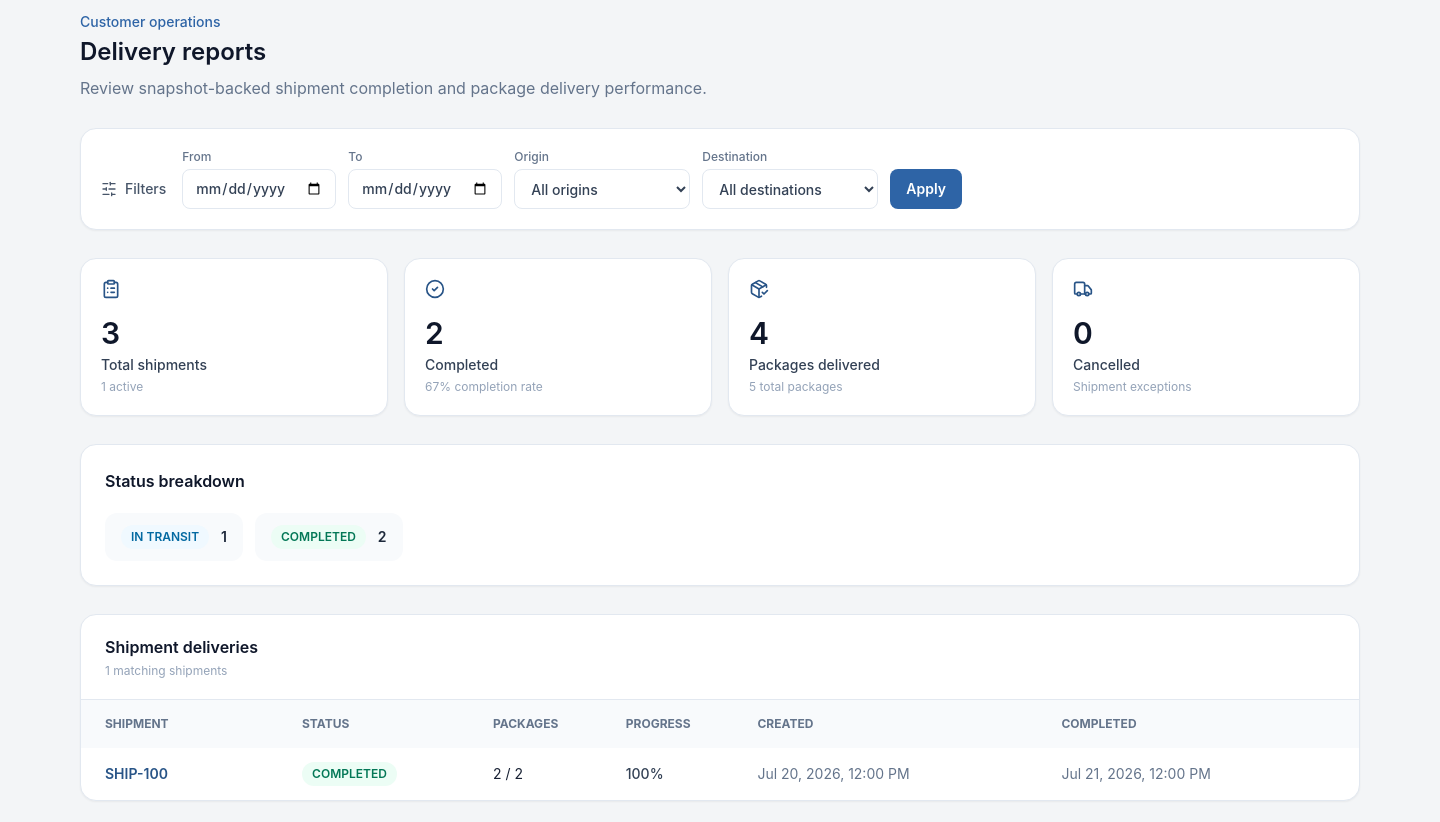
Test case: ReportsPage integration › clears active report filters
The width and height of the screenshot is (1440, 822).
Expected: the heading "Shipment deliveries" is shown, [105, 637, 258, 657]
Type "2026-07-01" into the date field named "Report from date" at (259, 189), box [182, 169, 336, 209]
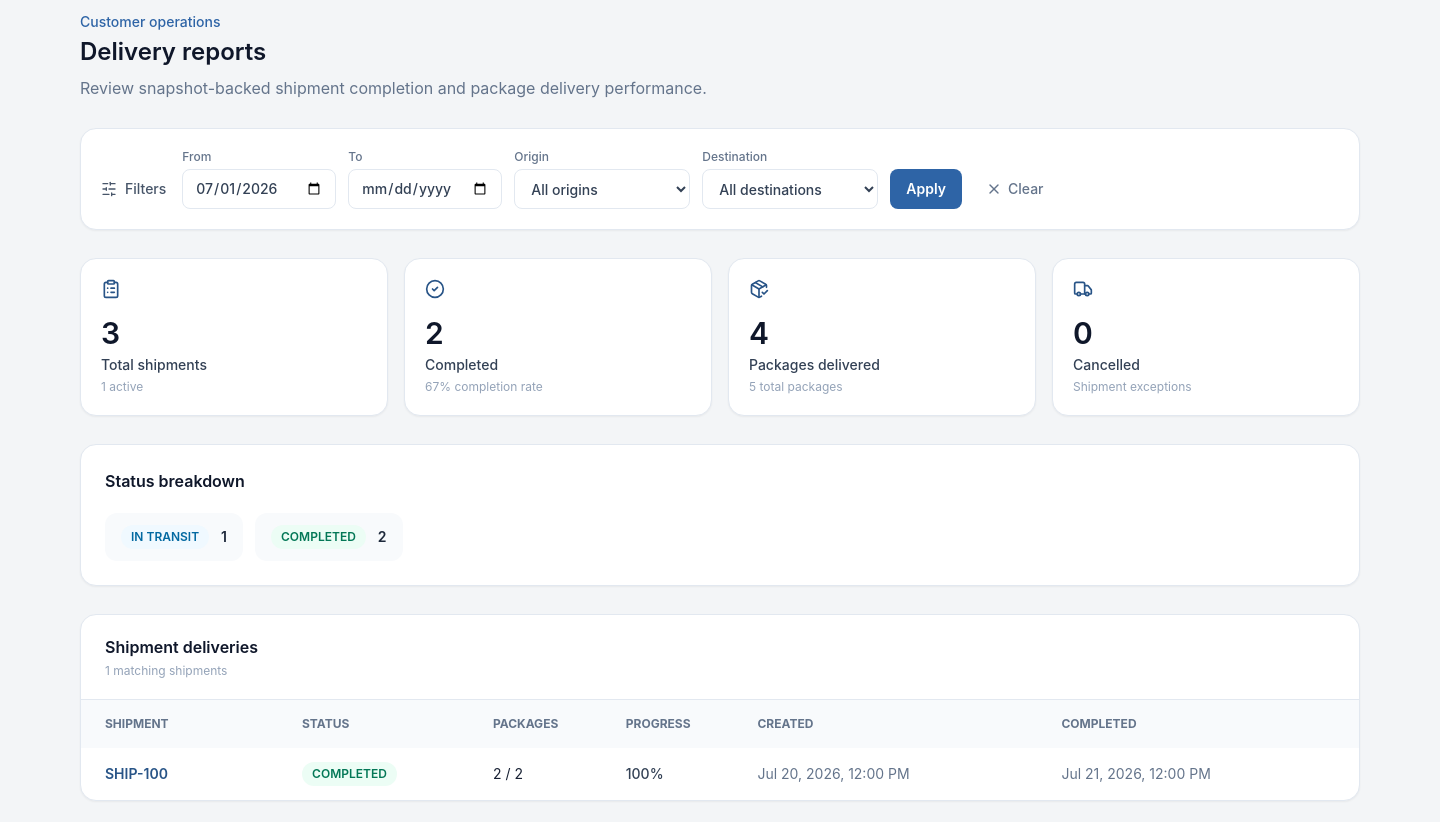
Click the button "Apply" at (926, 189), box [890, 169, 962, 209]
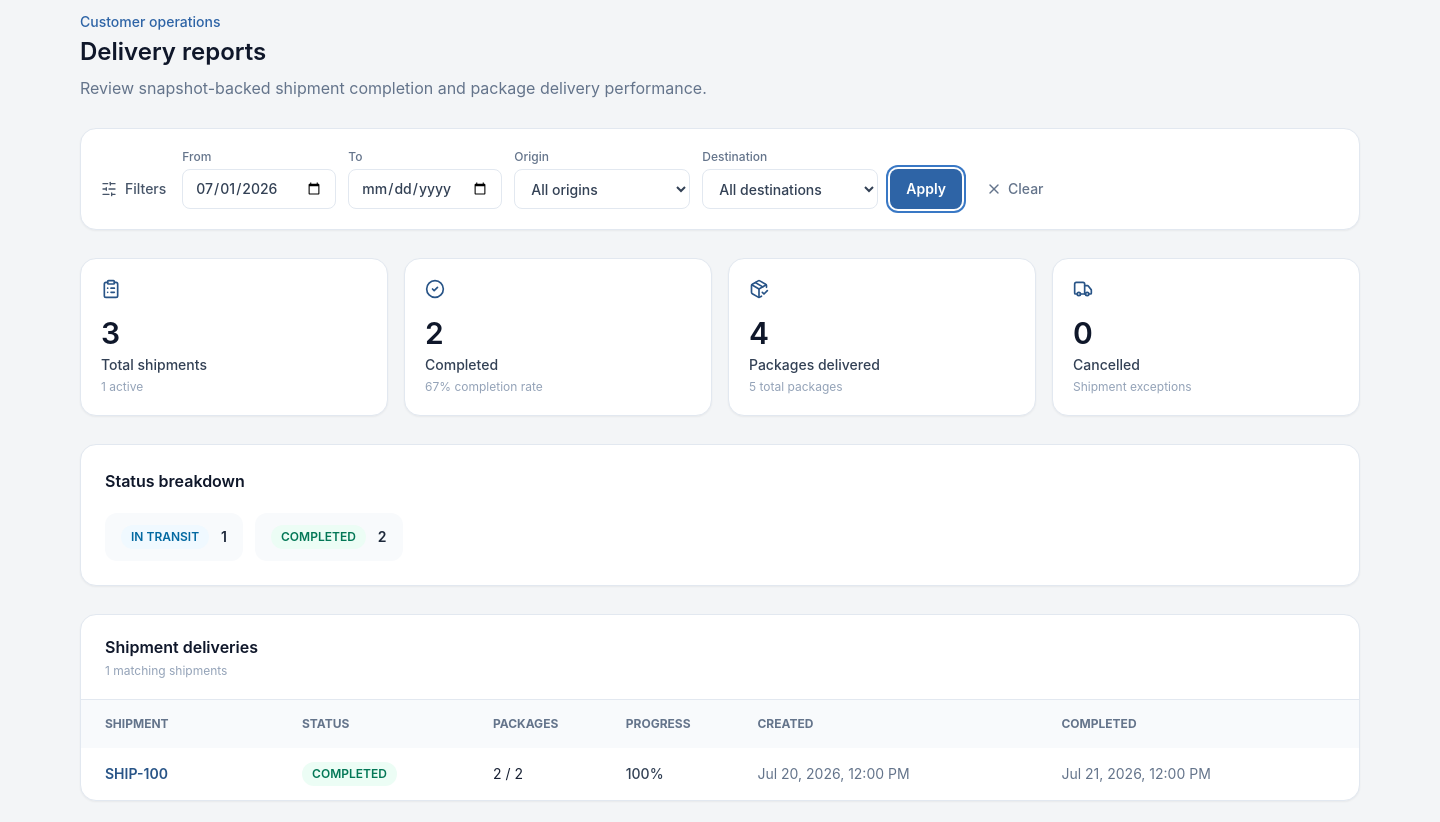
Click the button "Clear" at (1015, 189), box [974, 169, 1056, 209]
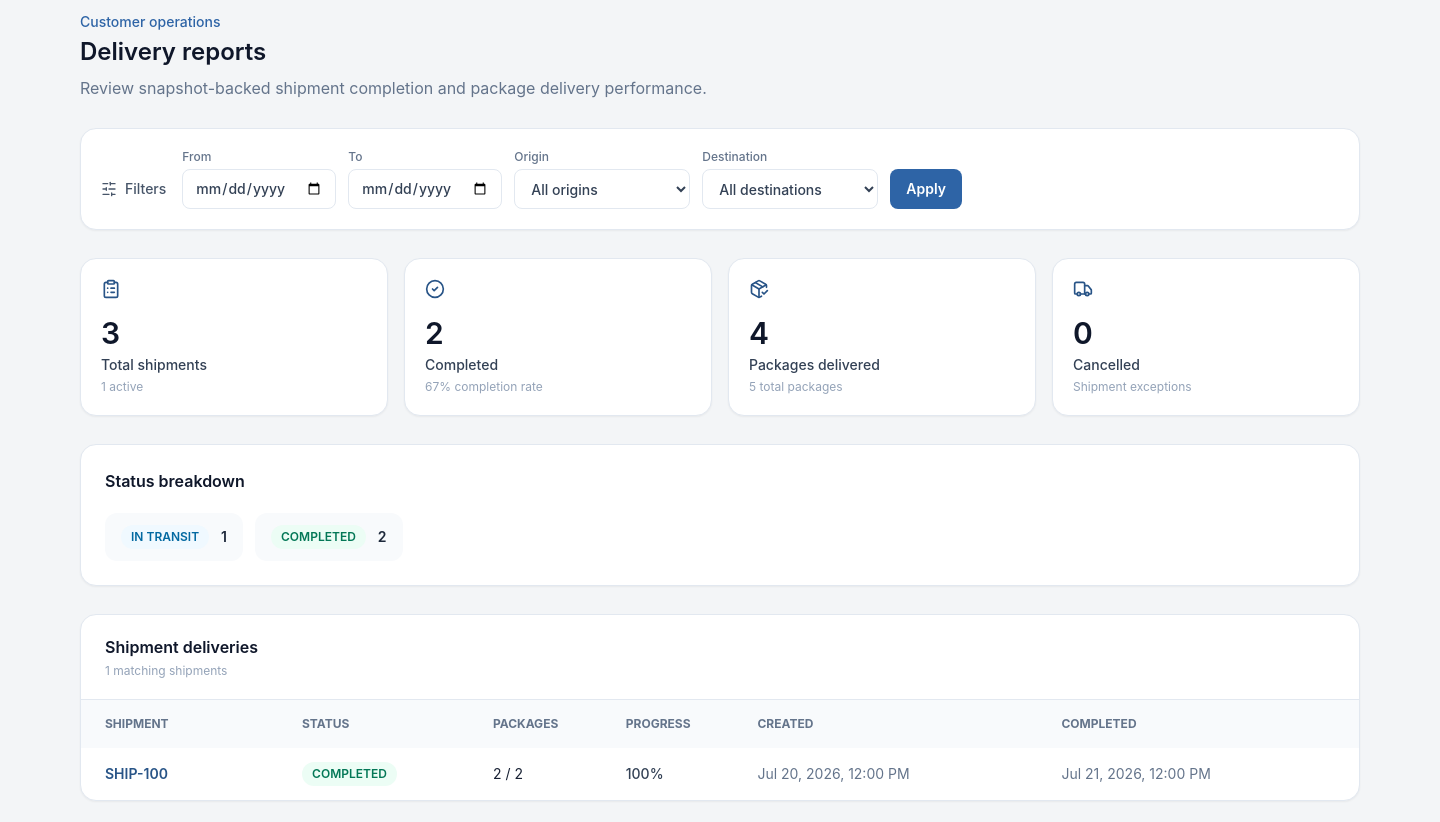
Expected: the date field named "Report from date" is empty, [182, 169, 336, 209]
